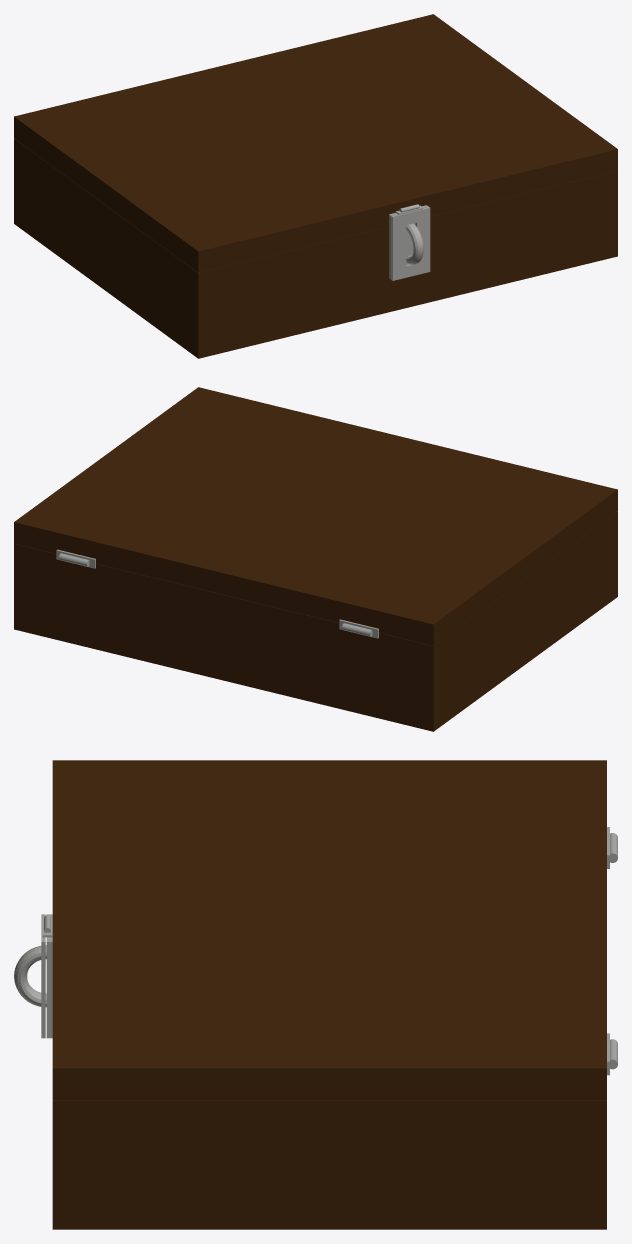
The model's file is pistolContainer.glb.
3 renders of one model, top to bottom at view 1: azimuth 30°, elevation 25°; view 2: azimuth 150°, elevation 25°; view 3: azimuth 270°, elevation 25°, orthographic. The views are drawn at different scales.
Parts seen in each view (by area): view 1: Cube.001, Cube, Cube.003, Torus; view 2: Cube.001, Cube; view 3: Cube.001, Cube, Torus, Cube.002.
Boxes of the visible parts, bbox=[...] form: Cube.001: bbox=[14, 14, 617, 272]; Cube: bbox=[14, 138, 617, 358]; Cube.003: bbox=[391, 207, 430, 280]; Torus: bbox=[406, 223, 423, 264]; Cube.001: bbox=[14, 387, 617, 645]; Cube: bbox=[14, 511, 617, 731]; Cube.001: bbox=[52, 760, 606, 1100]; Cube: bbox=[52, 1100, 606, 1229]; Torus: bbox=[14, 945, 46, 1007]; Cube.002: bbox=[46, 914, 52, 1038].
Size of the model in its own units: 4.19 by 1.02 by 3.47.
2 materials, 1 textured.
